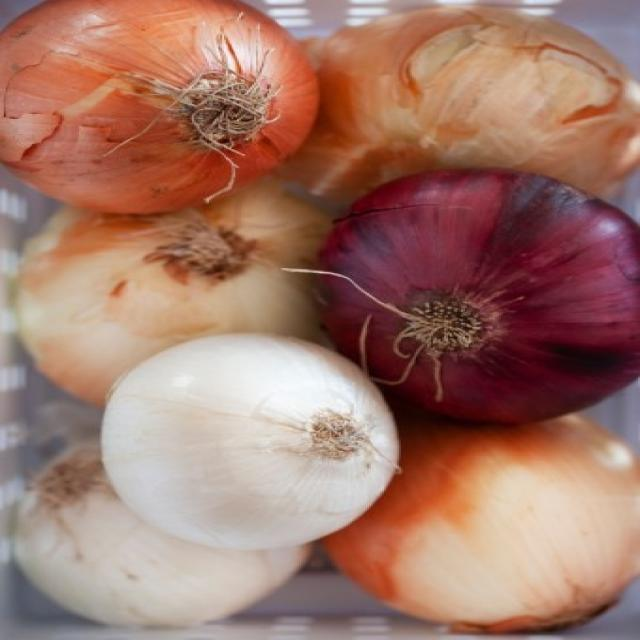Onion: (89, 326, 412, 546), (0, 180, 354, 372), (338, 164, 640, 376), (375, 421, 640, 636), (5, 0, 294, 188), (344, 1, 626, 182), (8, 440, 262, 640)
